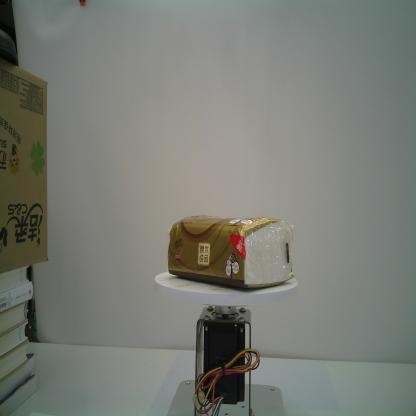Tissue: (166, 214, 294, 290)
